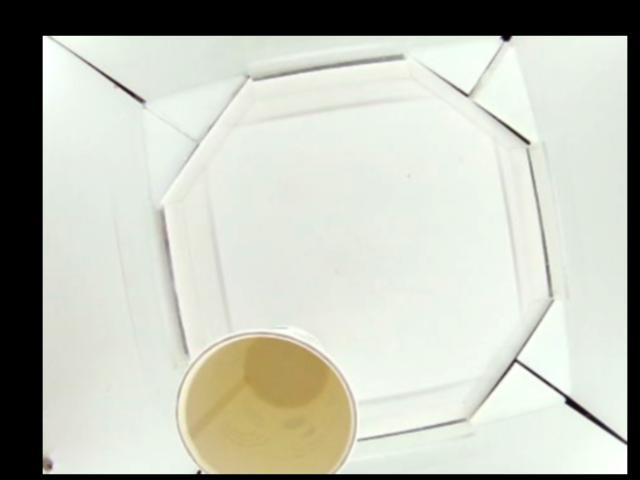Cup: (173, 328, 357, 474)
